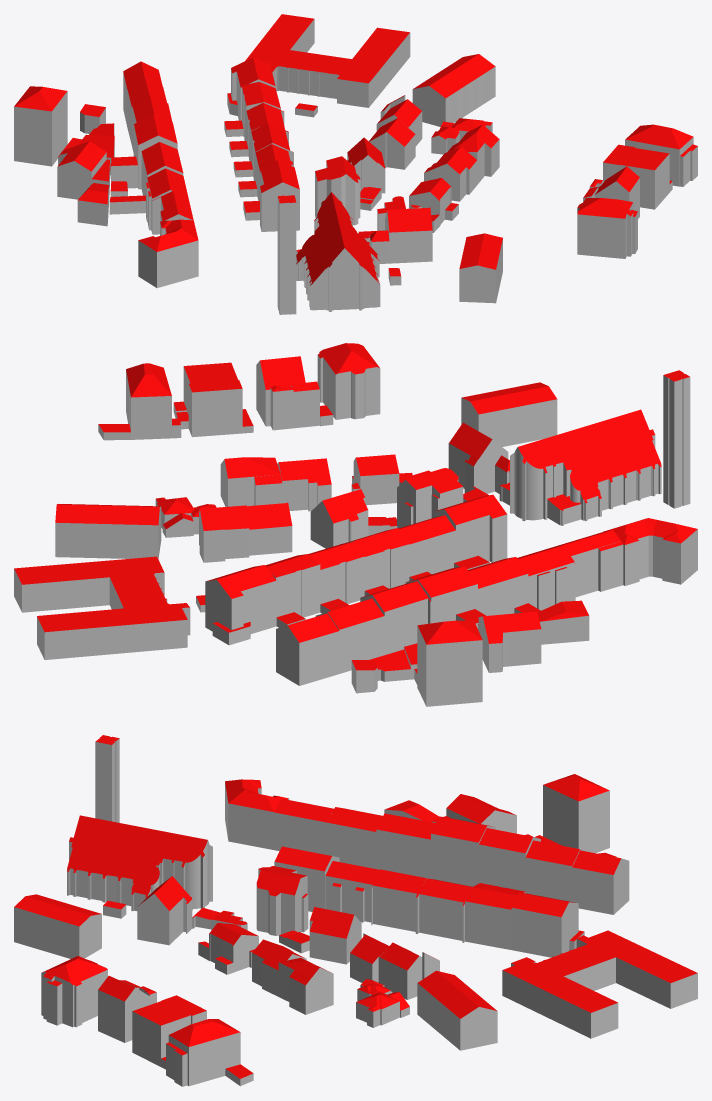
The picture shows the model from 3 angles, top to bottom: view 1: azimuth 30°, elevation 25°; view 2: azimuth 150°, elevation 25°; view 3: azimuth 270°, elevation 25°; orthographic projection. The views are drawn at different scales.
Size of the model in its own units: 201 by 40.99 by 216.
